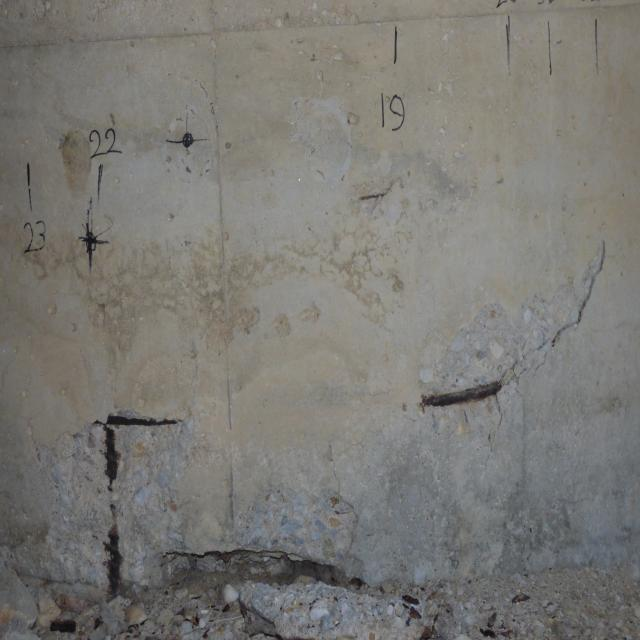corrosion: (89, 411, 190, 495), (419, 374, 509, 418), (182, 593, 251, 640), (474, 588, 536, 640), (399, 583, 453, 640), (102, 519, 130, 601), (47, 614, 81, 638), (92, 616, 105, 629)
